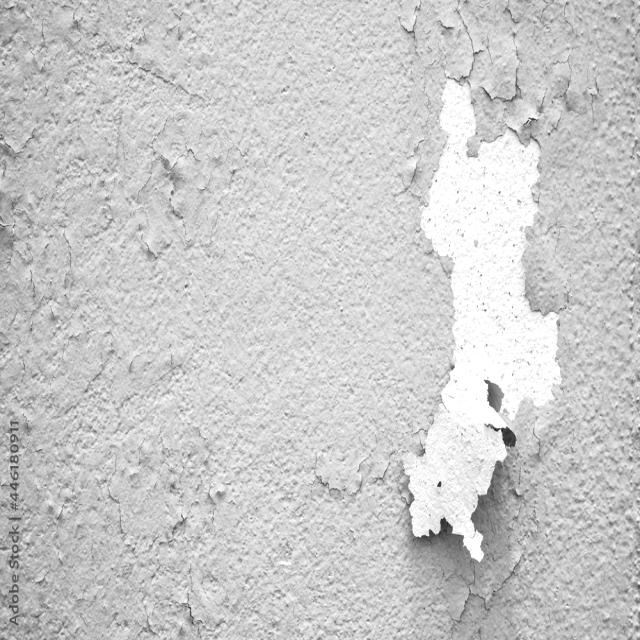peeling paint: (300, 0, 602, 640), (0, 0, 223, 640)
